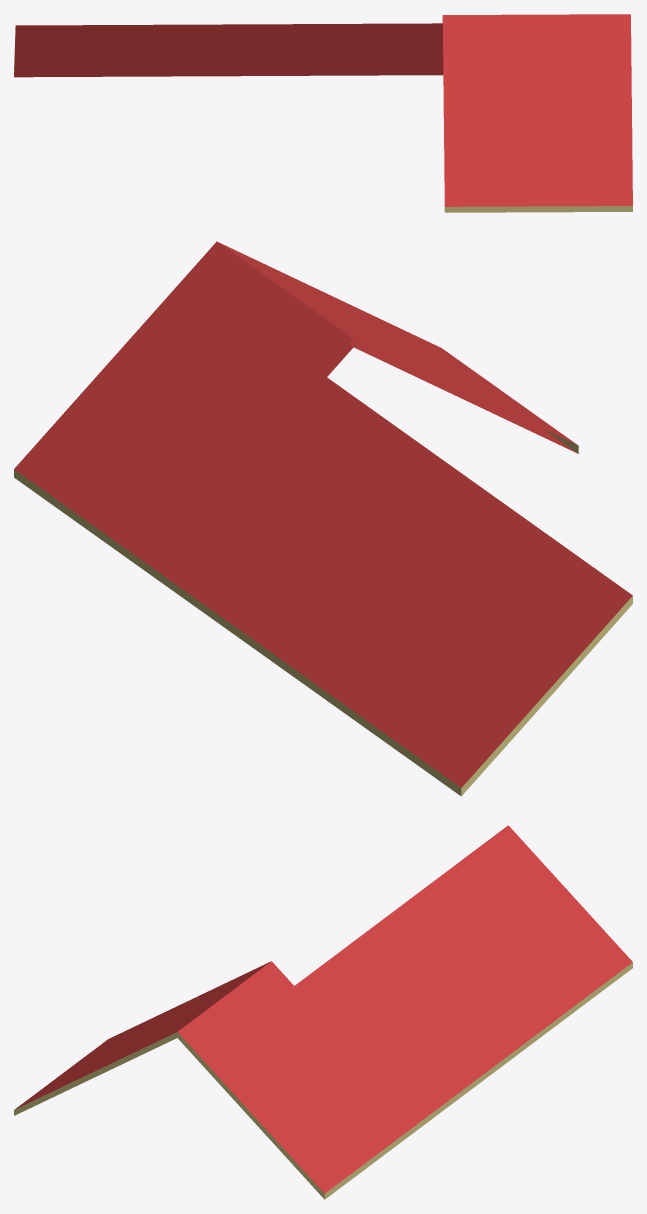
3 renders of one model, top to bottom at view 1: azimuth 30°, elevation 25°; view 2: azimuth 150°, elevation 25°; view 3: azimuth 270°, elevation 25°, orthographic. The views are drawn at different scales.
Bounding box in the file's own units: 9.3 × 9.31 × 2.2.
